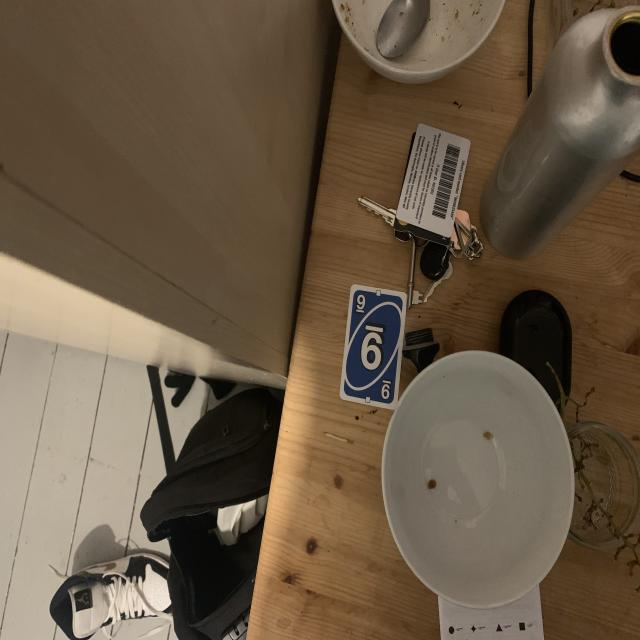lblue-9: (352, 293, 367, 317)
